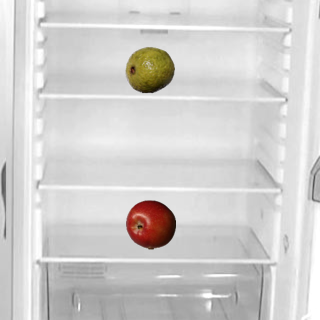Apple Braeburn: (125, 199, 175, 249)
Guava: (124, 44, 174, 94)
